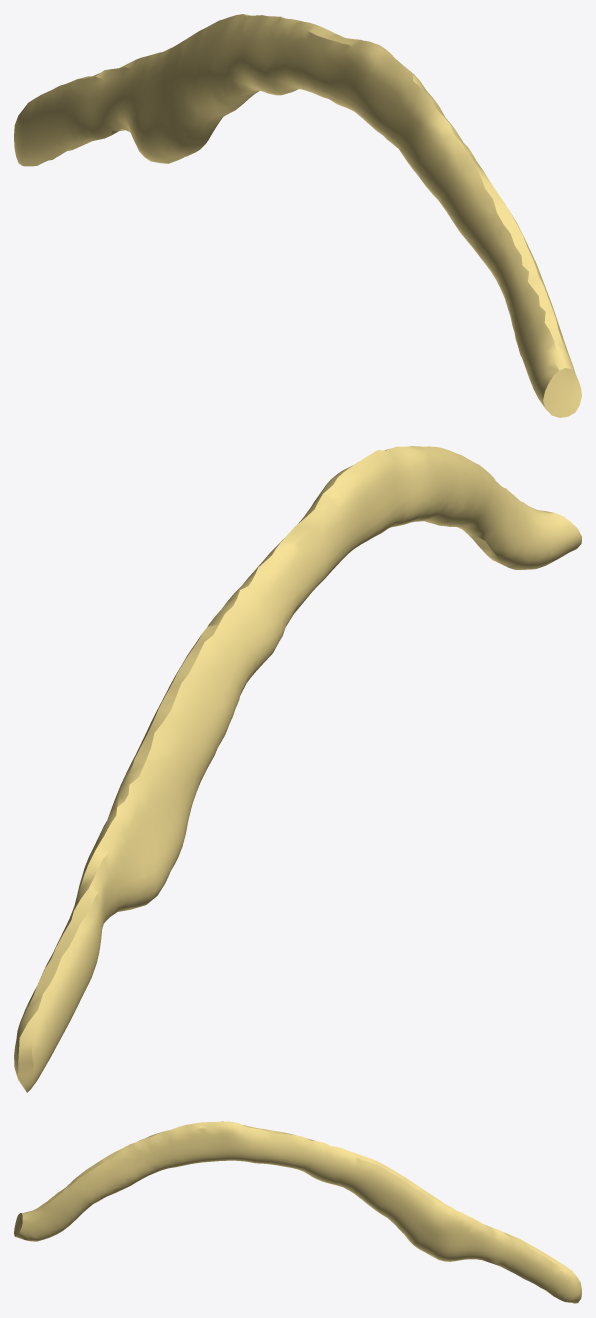
Rendered from fma78462-r_mm3070m.glb.
3 renders of one model, top to bottom at view 1: azimuth 30°, elevation 25°; view 2: azimuth 150°, elevation 25°; view 3: azimuth 270°, elevation 25°, orthographic. The views are drawn at different scales.
Parts seen in each view (by area): view 1: FMA78462-R_MM3070M; view 2: FMA78462-R_MM3070M; view 3: FMA78462-R_MM3070M.
Boxes of the visible parts, x1,y1,x2,y2 form: FMA78462-R_MM3070M: (14, 14, 581, 417); FMA78462-R_MM3070M: (14, 446, 581, 1092); FMA78462-R_MM3070M: (14, 1121, 581, 1303).
Bounding box in the file's own units: 0.00177 × 0.0107 × 0.0294.
